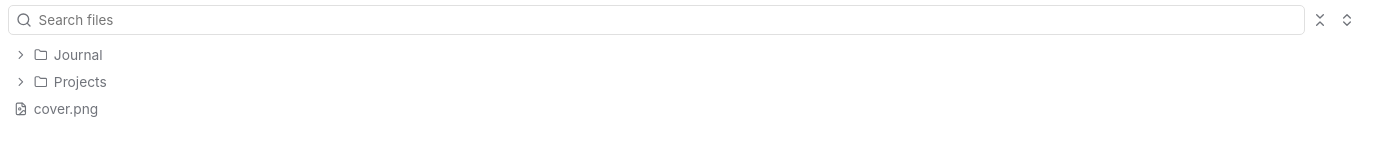
Test case: FileBrowser › searches full paths while retaining matching folders
This screenshot has width=1378, height=160.
Type "tephra" into the search field labelled "Search files" at (671, 20), box [39,6,1304,34]
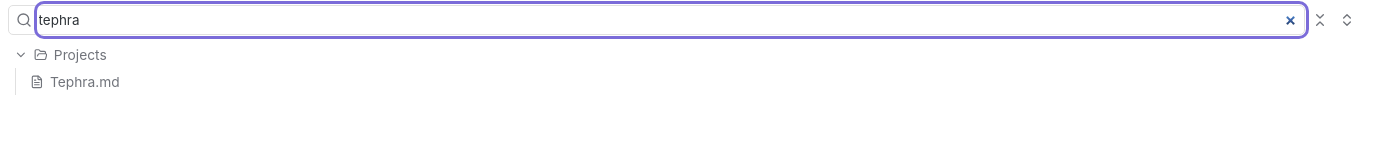
Expected: the button "Projects" is shown, [6,41,1366,68]
Expected: the button "Tephra.md" is shown, [23,68,1366,95]
Expected: the button "cover.png" is gone
